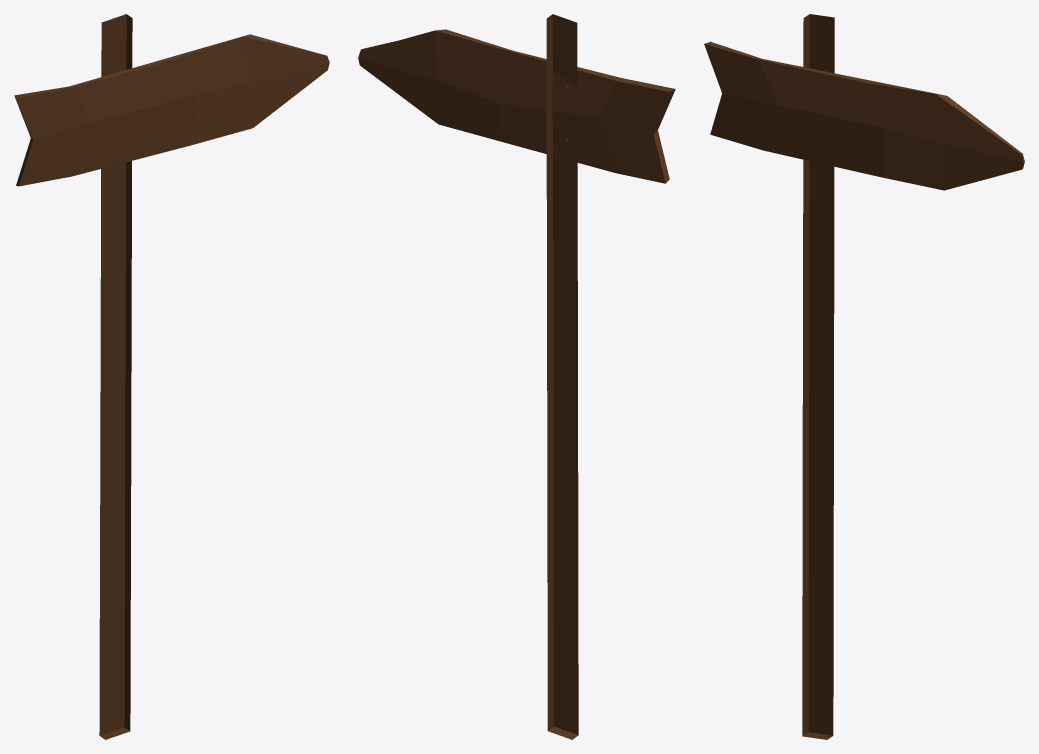
The model's file is RIGHT ROAD SIGN.fbx.
The picture shows the model from 3 angles, left to right: view 1: azimuth 30°, elevation 25°; view 2: azimuth 150°, elevation 25°; view 3: azimuth 330°, elevation 25°; orthographic projection.
Visible parts, largest first — view 1: Plane.001; view 2: Plane.001; view 3: Plane.001.
Boxes of the visible parts, box(x1,y1,x2,y2) form: Plane.001: box(14, 14, 329, 739); Plane.001: box(358, 14, 675, 739); Plane.001: box(704, 14, 1024, 739).
Size of the model in its own units: 1214 by 2639 by 78.22.
